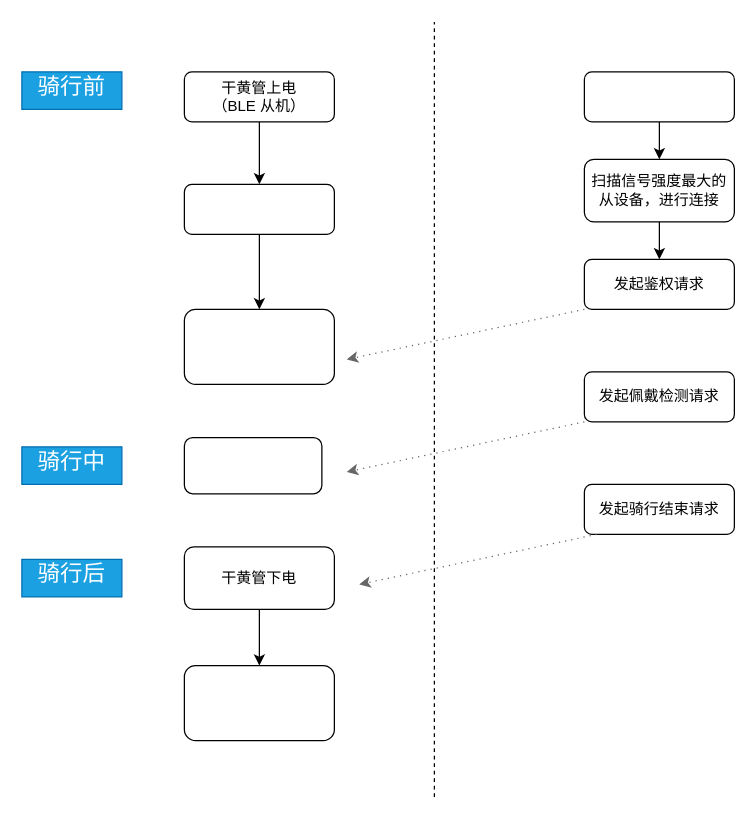
The diagram is 756 pixels wide and 820 high, and some of its shapes have lost their labels. The shapes that lost their labels are listed below. From the top down, each one's centre as x and y in pixels, then its label:
the point at 658,96: BLE 主机
the point at 258,208: 广播RSSI值/MAC地址
the point at 258,346: 鉴权成功
the point at 252,465: 等待请求佩戴状态信息
the point at 258,702: BLE 进入低功耗，设备待机模式
